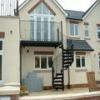stairs: (51, 48, 74, 91)
